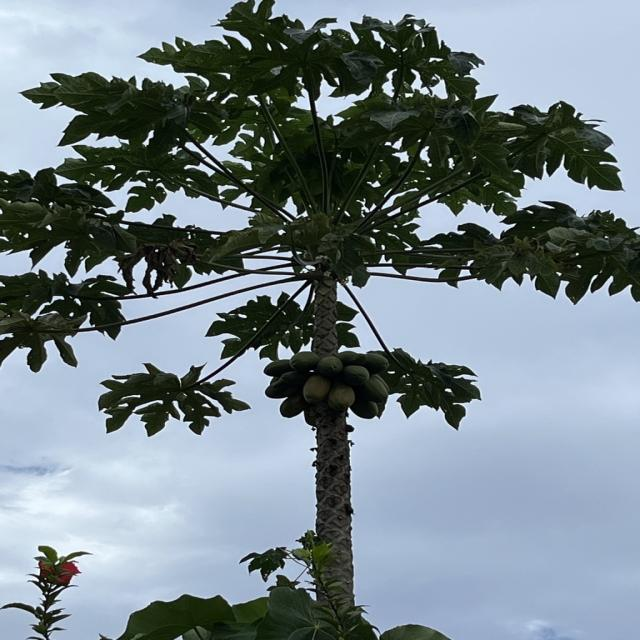Papaya-Tree: (9, 2, 640, 557)
